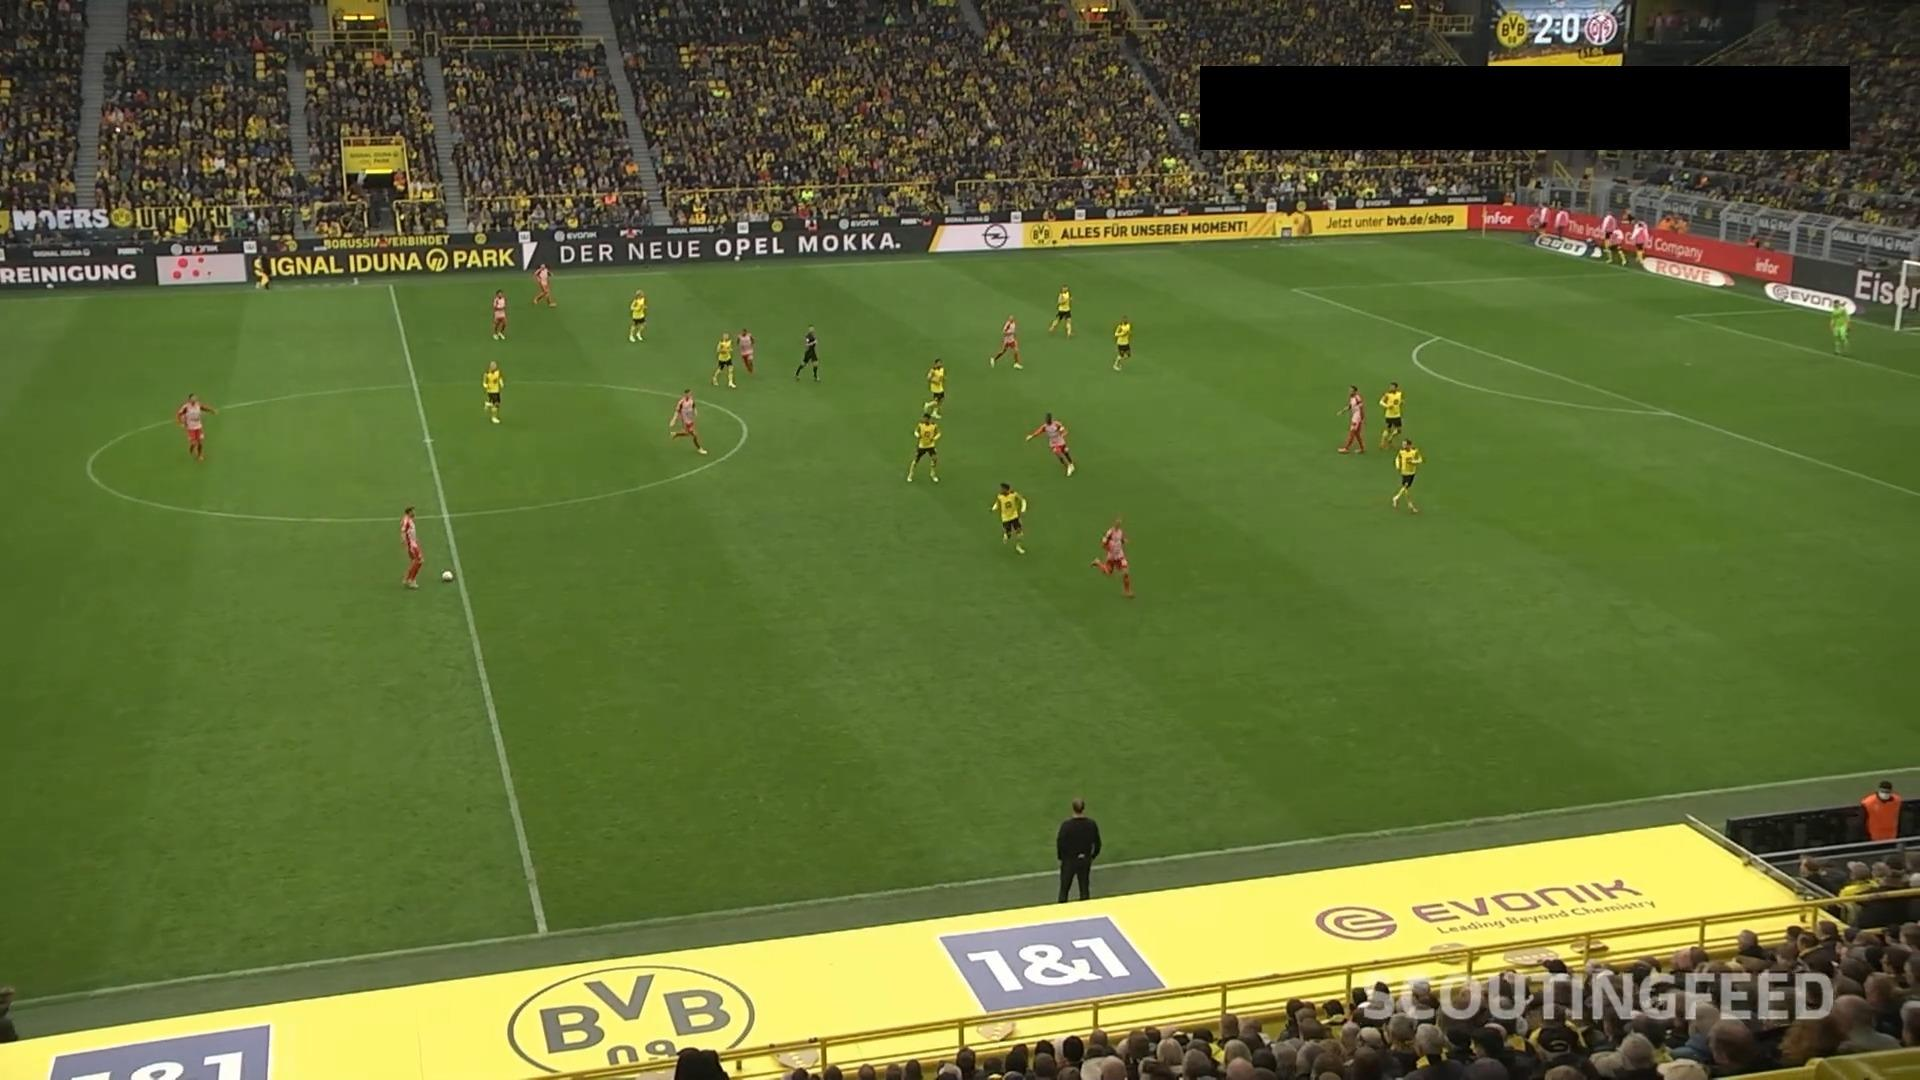ball: (440, 568, 455, 583)
